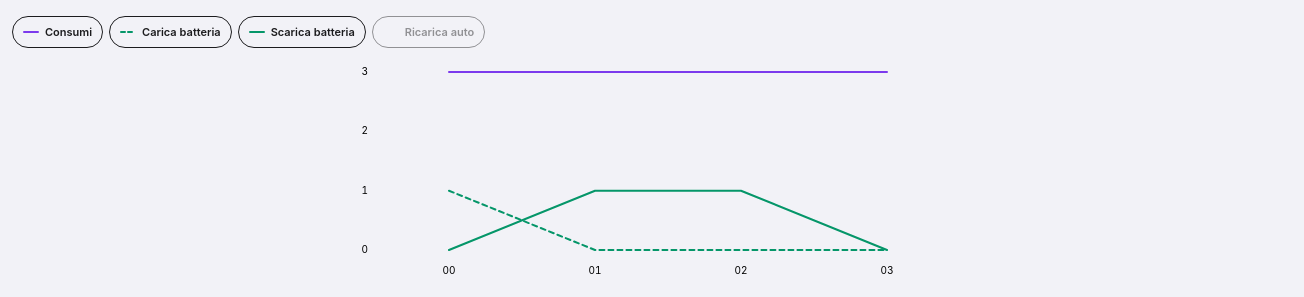
it: Energy history chart › keeps battery charge and discharge apart and shows the car charge as it is
Click the button "Ricarica auto" at (428, 32), box [372, 16, 485, 48]
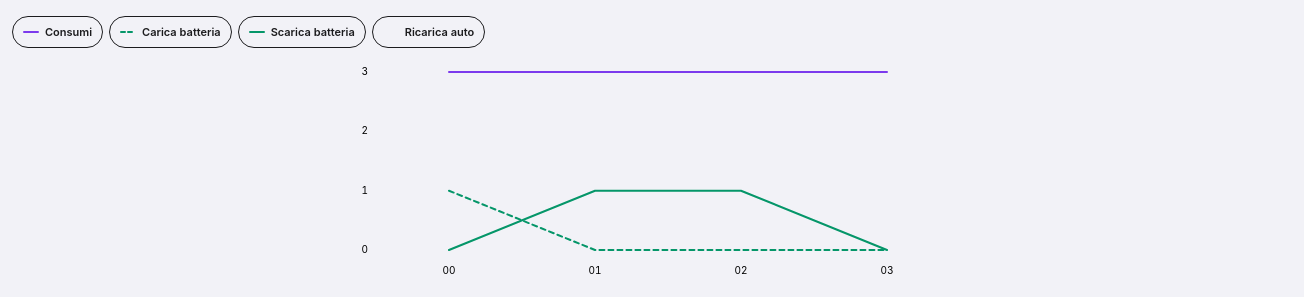
Press Home in the picture named "Grafico dell’energia"
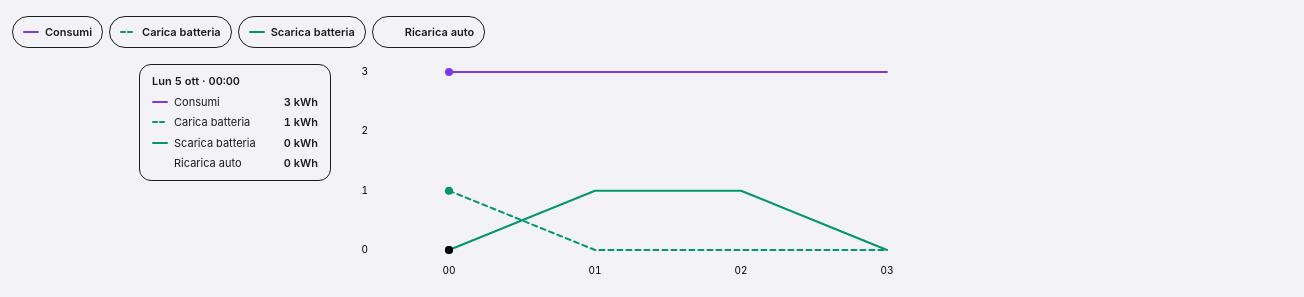
Press ArrowRight in the picture named "Grafico dell’energia"
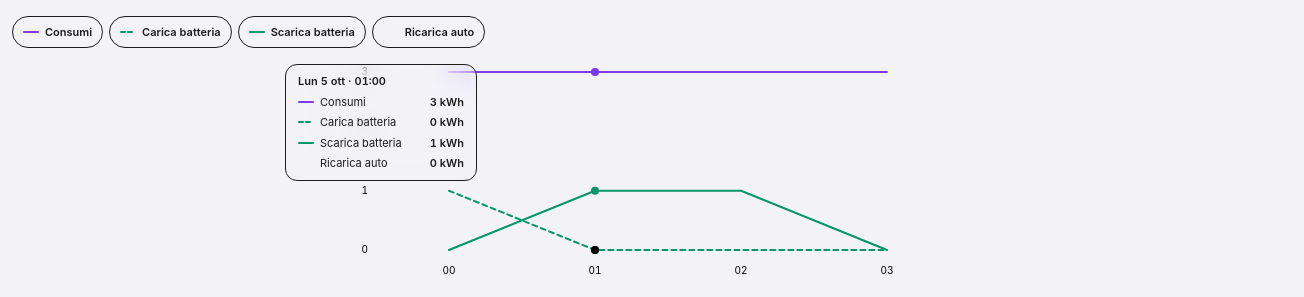
Press ArrowRight in the picture named "Grafico dell’energia"
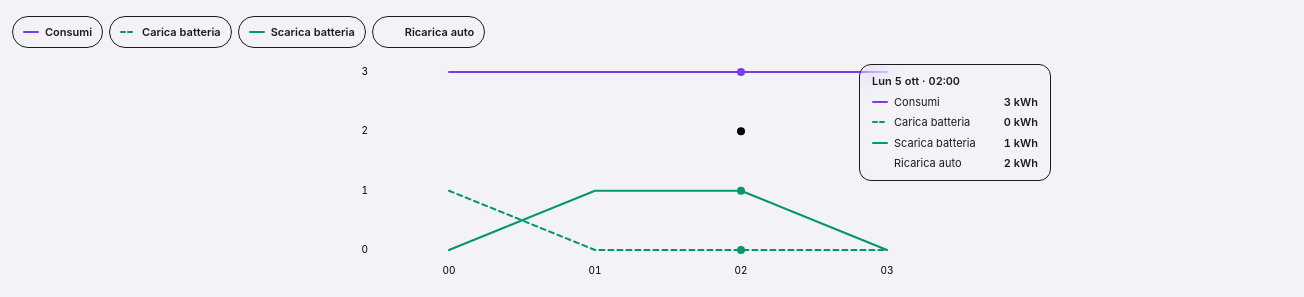
Expected: the text "3 kWh" is shown, [1004, 94, 1038, 110]
Expected: the text "2 kWh" is shown, [1004, 155, 1038, 172]
